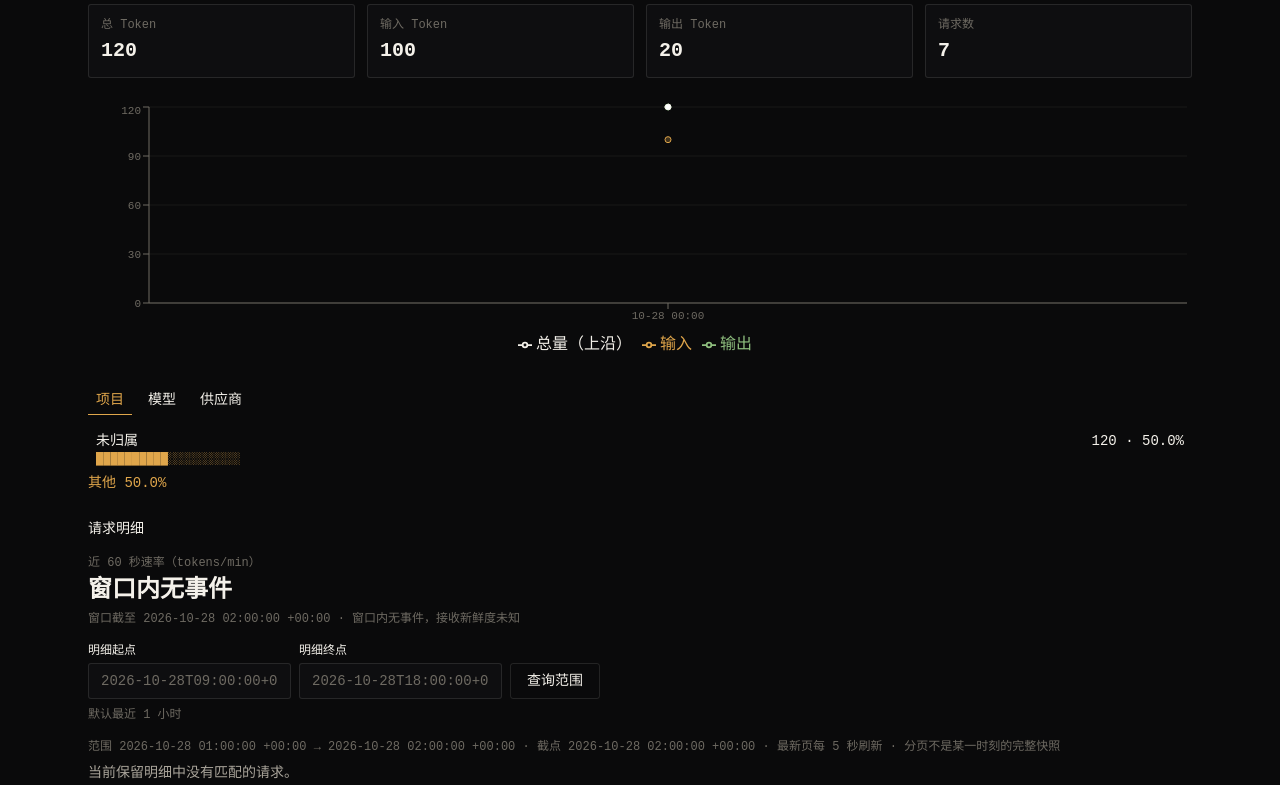
Scenario: overview page › keeps the model tab after a model click and collapses the long tail
(page scrolled)
Expected: the list item with test id "metric-total" is shown, [88,4,355,78]
Click the tab "模型".
click(162, 400)  # box [140,386,184,415]
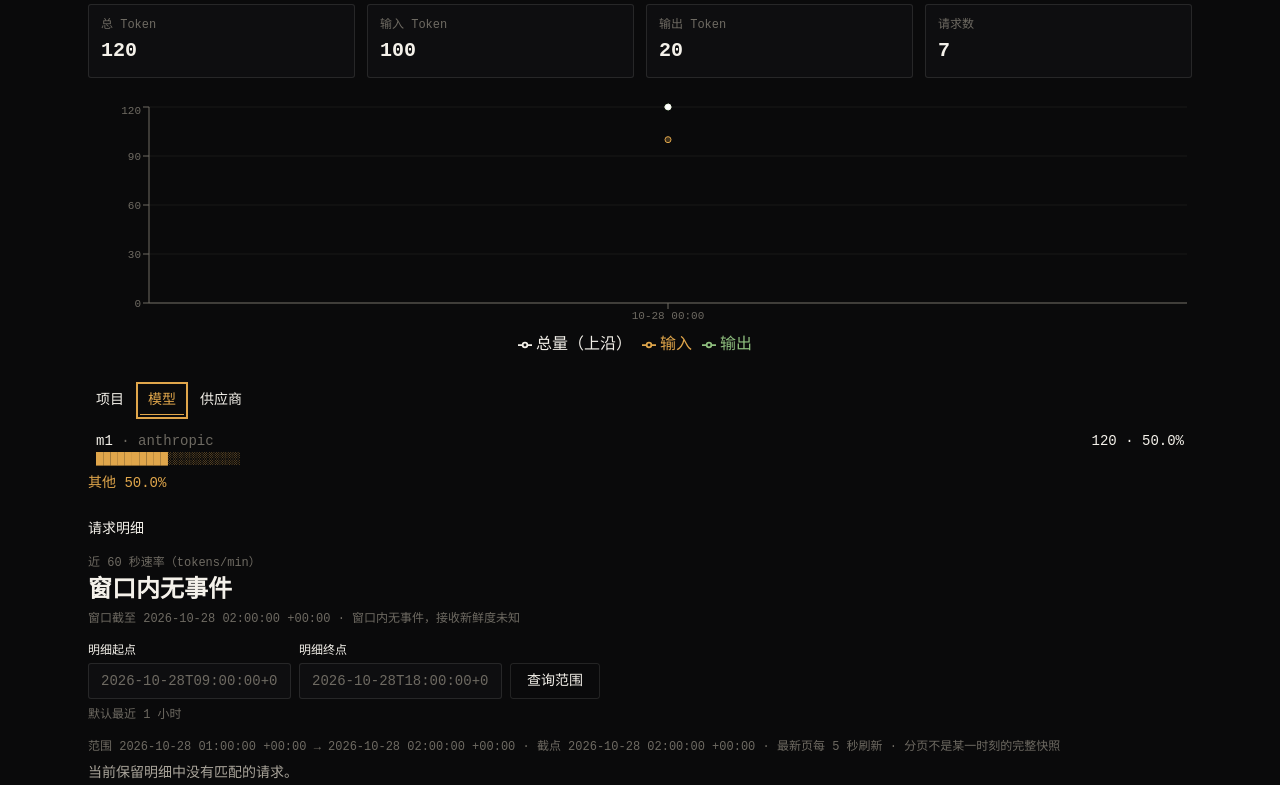
Click the button "其他 50.0%".
click(127, 483)  # box [88,473,166,493]
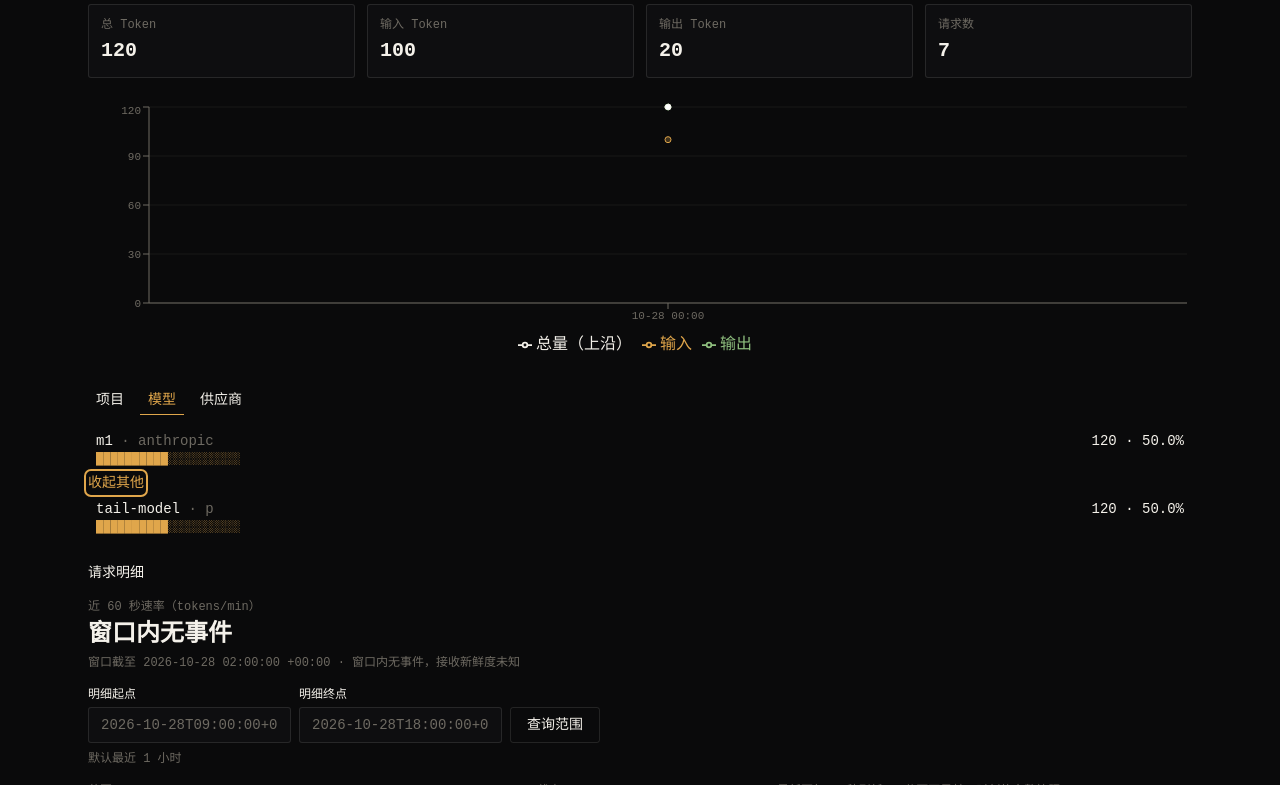
Expected: the button "tail-model · p 120 · 50.0% ██████████░░░░░░░░░░" is shown, [88,495,1192,539]
Click the button "m1 · anthropic 120 · 50.0% ██████████░░░░░░░░░░".
click(176, 441)  # box [88,427,1192,471]
(page scrolled)
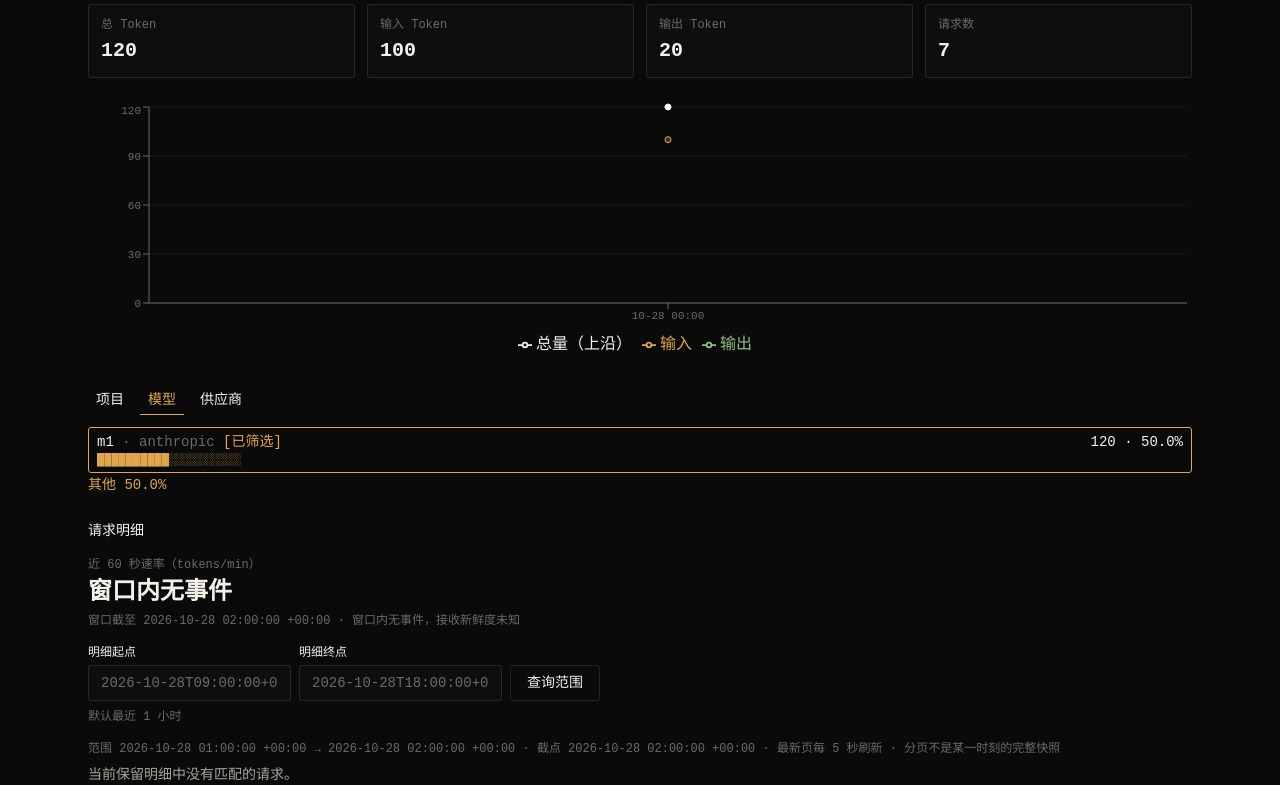
Expected: the button "m1 · anthropic [已筛选] 120 · 50.0% ██████████░░░░░░░░░░" is shown, [88,427,1192,473]
Expected: the button "tail-model" is gone
Expected: the button "其他 50.0%" is collapsed, [88,475,166,495]
